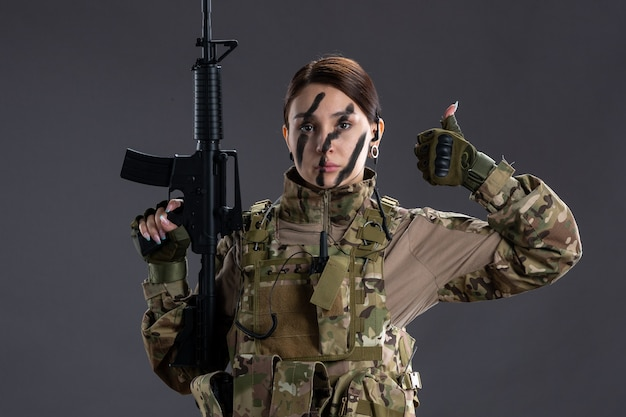gun: (121, 2, 244, 336)
